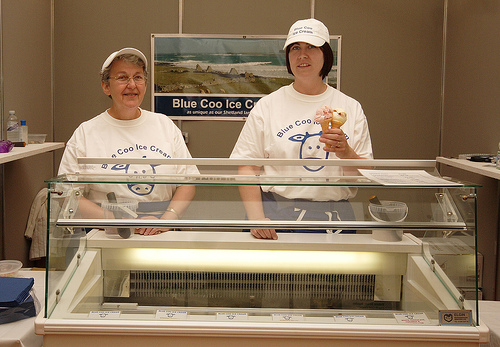without_mask: (98, 56, 150, 112), (286, 36, 332, 86)
